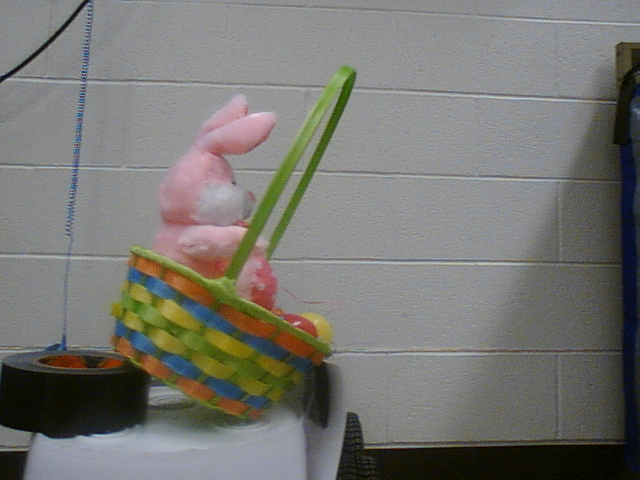bunny: (109, 62, 366, 423)
